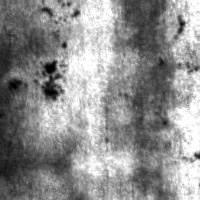inclusion: (39, 59, 64, 100), (171, 10, 193, 41), (5, 73, 28, 99)
patches: (116, 0, 180, 154), (0, 102, 79, 187), (0, 22, 69, 65), (130, 149, 179, 199)
